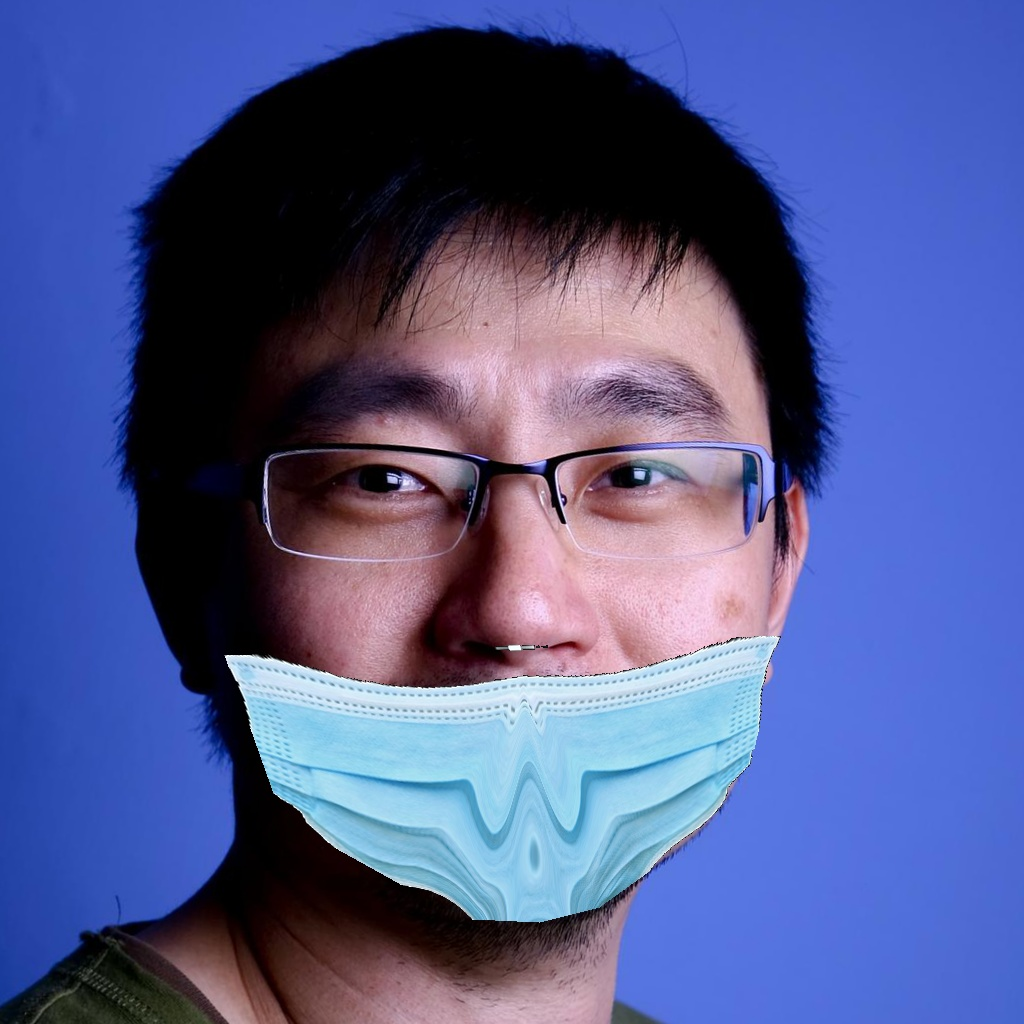mascarilla_mal_puesta: (151, 315, 861, 960)
